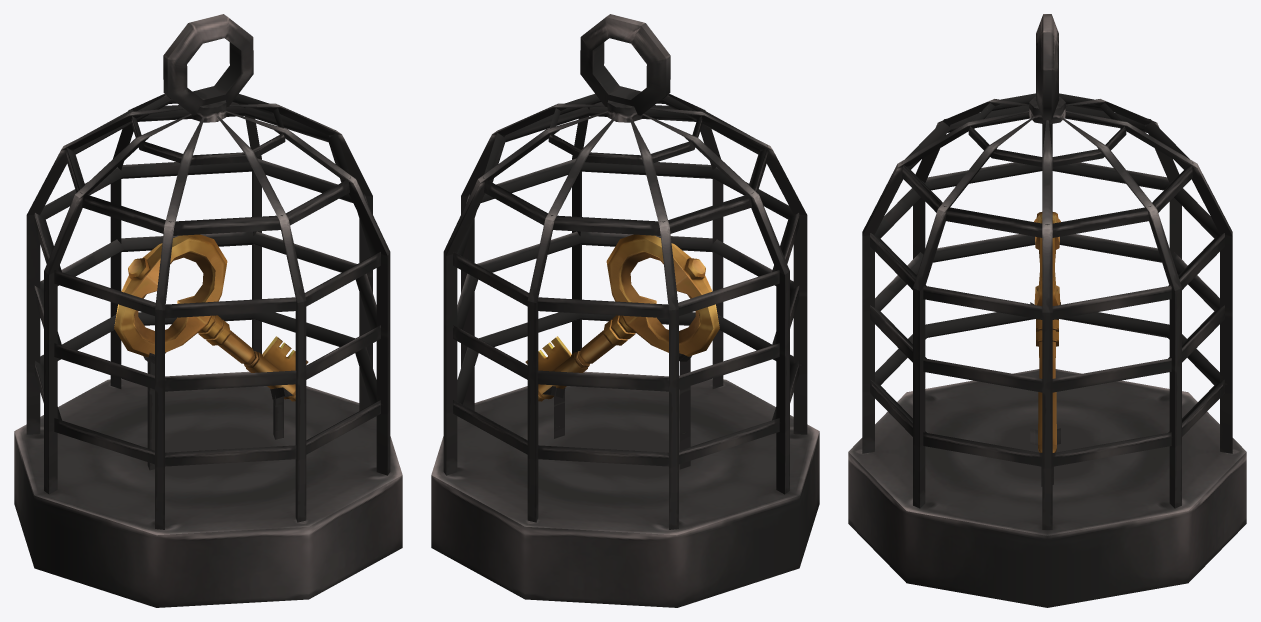
File: 93_birdcage.FBX
3 views of the same model, side by side, from view 1: azimuth 30°, elevation 25°; view 2: azimuth 150°, elevation 25°; view 3: azimuth 270°, elevation 25° (orthographic).
Parts seen in each view (by area): view 1: Object045; view 2: Object045; view 3: Object045.
Boxes of the visible parts, x1,y1,x2,y2 form: Object045: (14, 14, 402, 607); Object045: (431, 14, 819, 607); Object045: (848, 14, 1246, 607).
Size of the model in its own units: 41.62 by 57.8 by 41.62.
